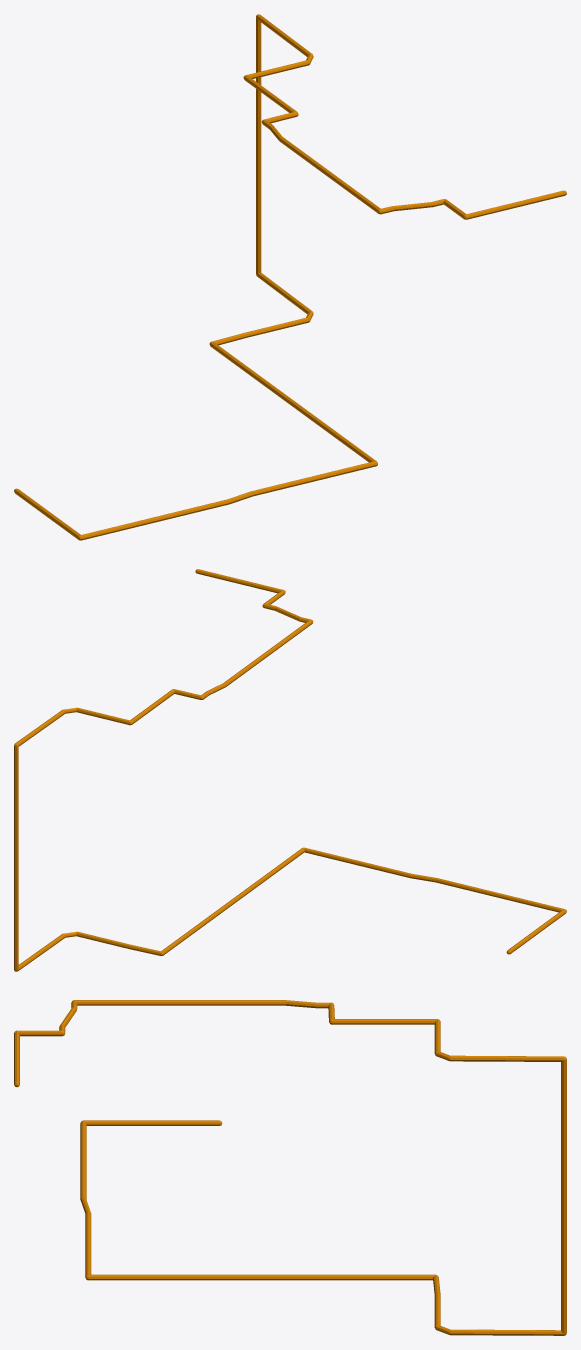
3 renders of one model, top to bottom at view 1: azimuth 30°, elevation 25°; view 2: azimuth 150°, elevation 25°; view 3: azimuth 270°, elevation 25°, orthographic. The views are drawn at different scales.
Bounding box in the file's own units: 1861 × 1020 × 1830.
